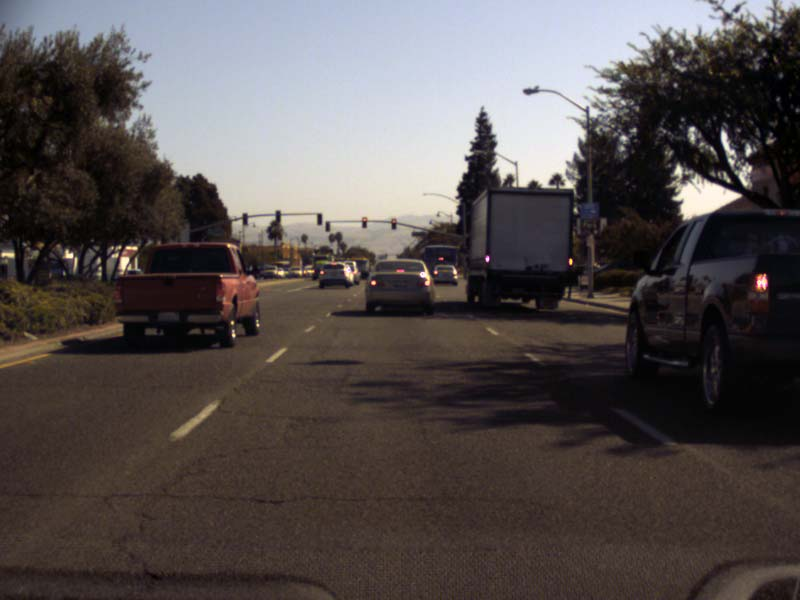Red: (391, 218, 396, 230), (362, 217, 367, 228)
